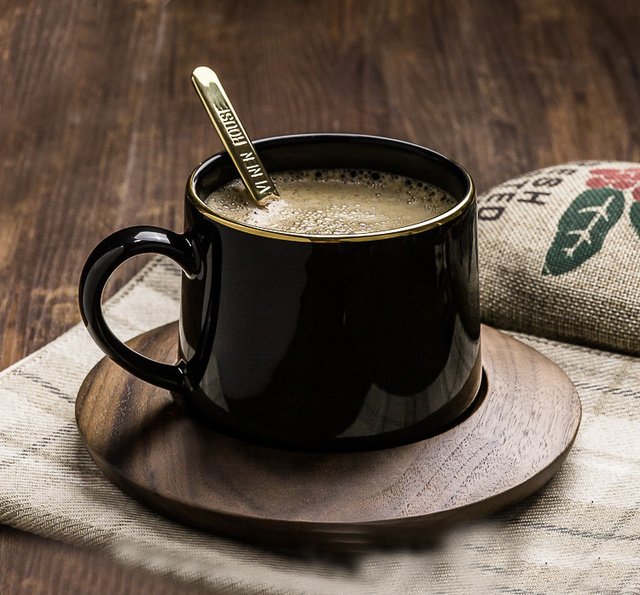cup: (77, 132, 483, 453)
